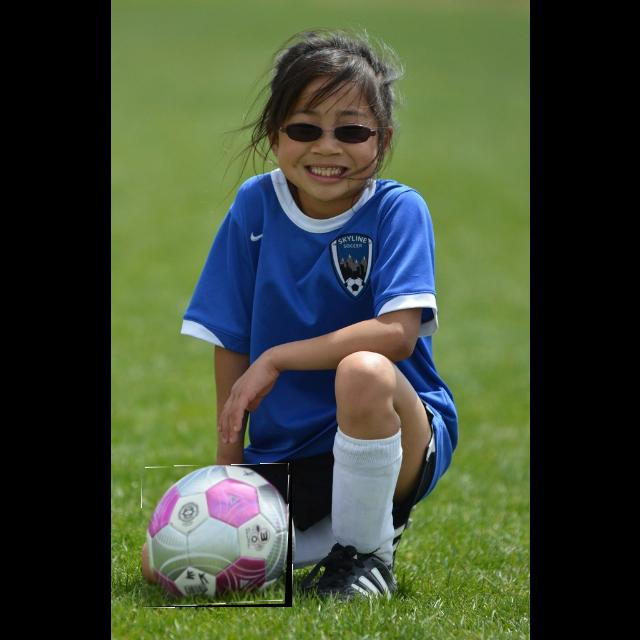Football: (142, 465, 292, 607)
